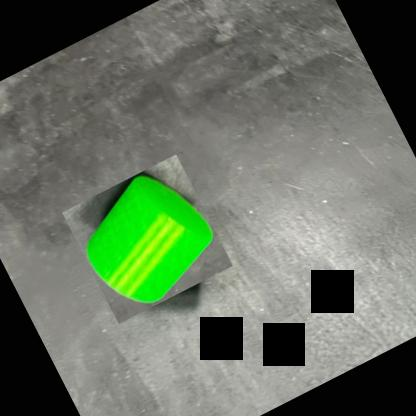green cylinder: (62, 154, 233, 324)
